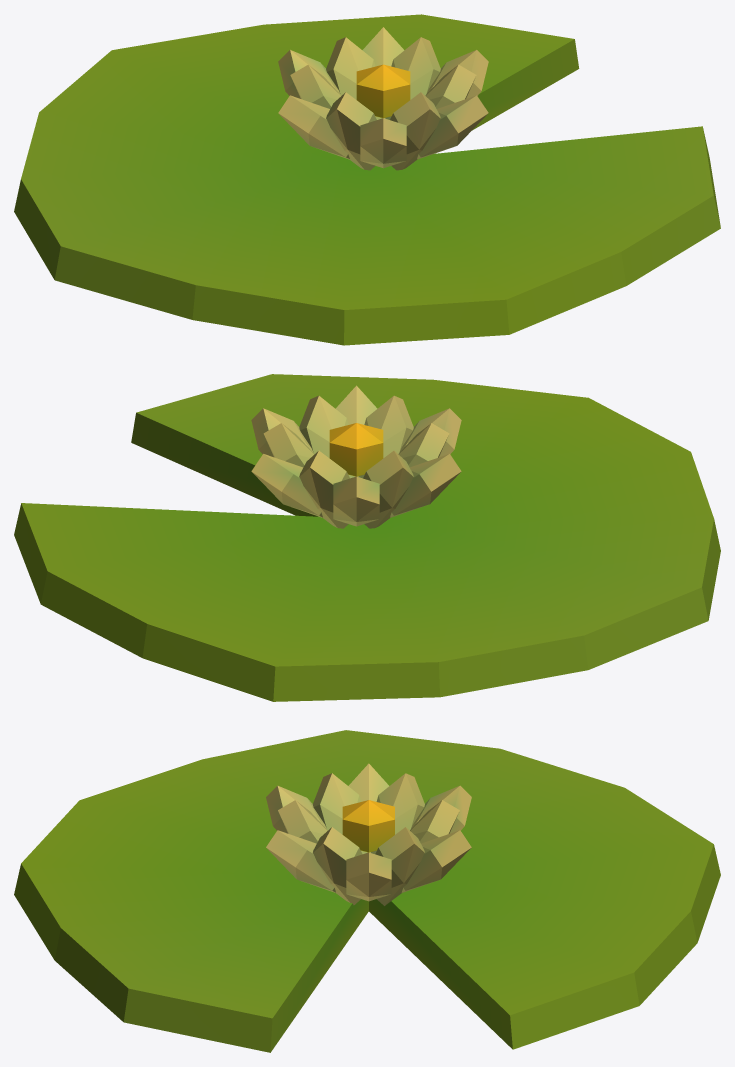
Rendered from Lily_Pad_Single.fbx.
The picture shows the model from 3 angles, top to bottom: view 1: azimuth 30°, elevation 25°; view 2: azimuth 150°, elevation 25°; view 3: azimuth 270°, elevation 25°; orthographic projection. The views are drawn at different scales.
Visible parts, largest first — view 1: Lily_Pad_Single; view 2: Lily_Pad_Single; view 3: Lily_Pad_Single.
Boxes of the visible parts, <box> form: Lily_Pad_Single: <box>14,14,720,345</box>; Lily_Pad_Single: <box>14,374,720,701</box>; Lily_Pad_Single: <box>14,730,720,1052</box>.
Size of the model in its own units: 0.5985 by 0.115 by 0.6077.
